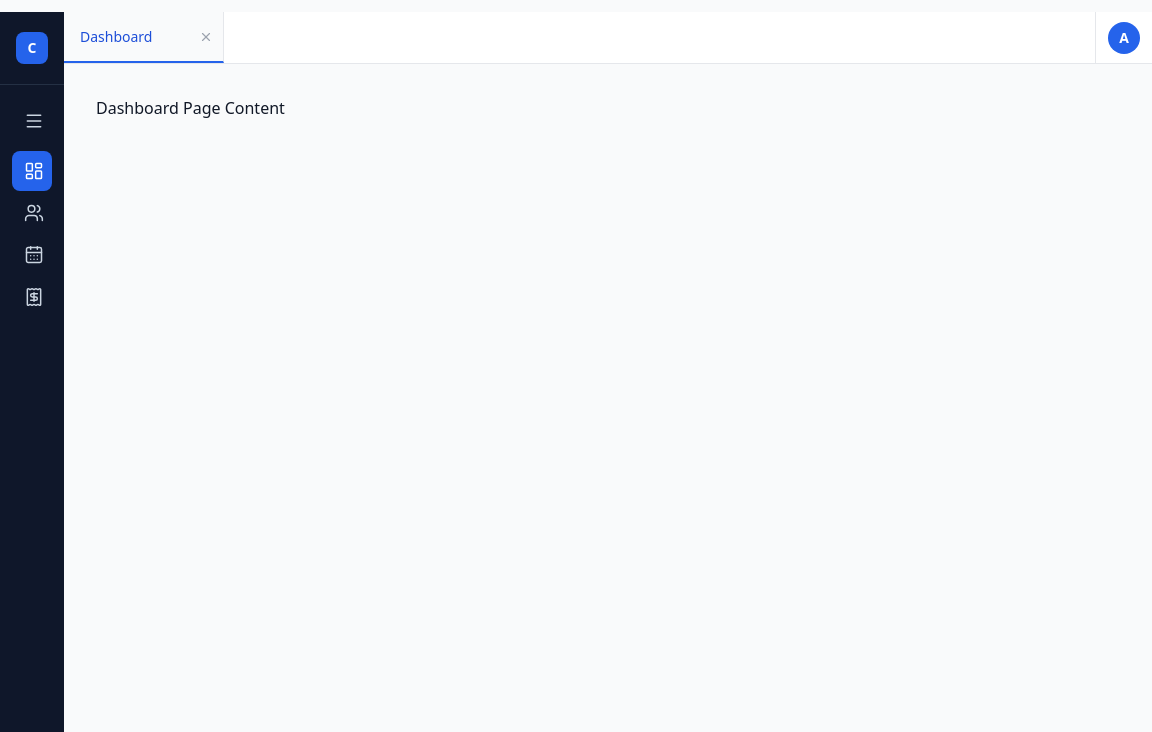
Test: Layout › shows the empty-state placeholder once every tab is closed
Click the button with test id "tab-close" at (206, 36), box top-left (199, 30), bottom-right (213, 44)
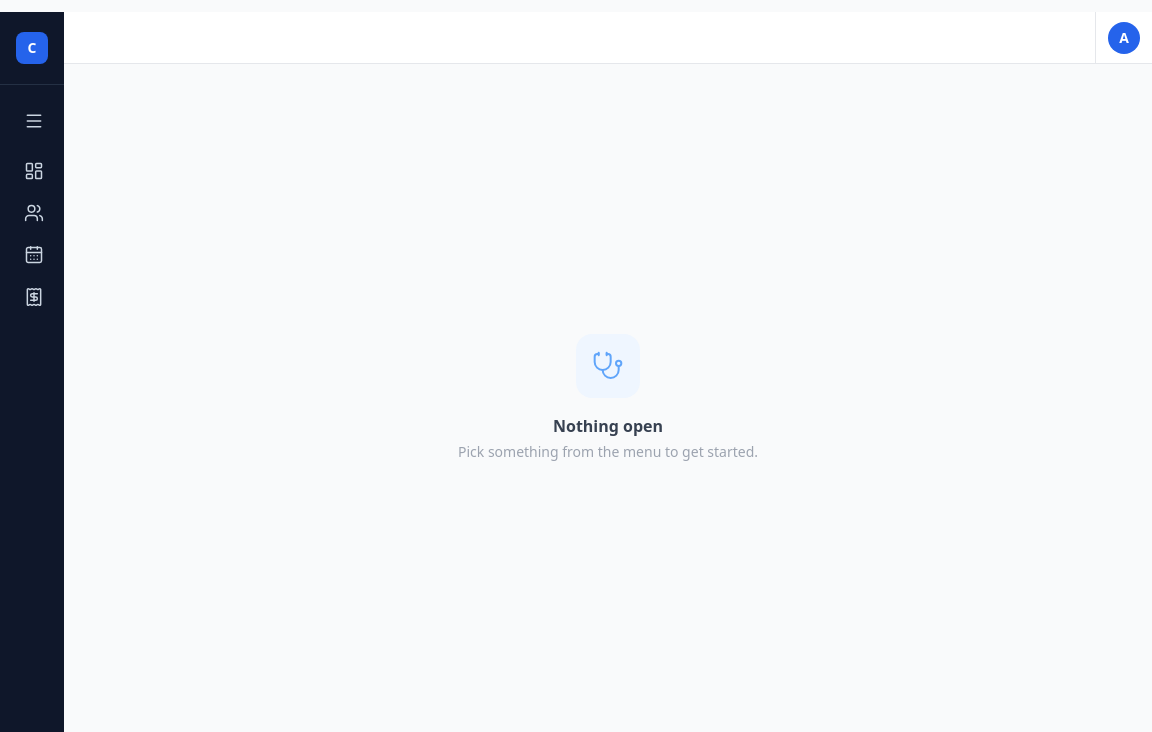
Expected: the text "Dashboard Page Content" is gone
Expected: the text "Nothing open" is shown, top-left (553, 414), bottom-right (663, 438)
